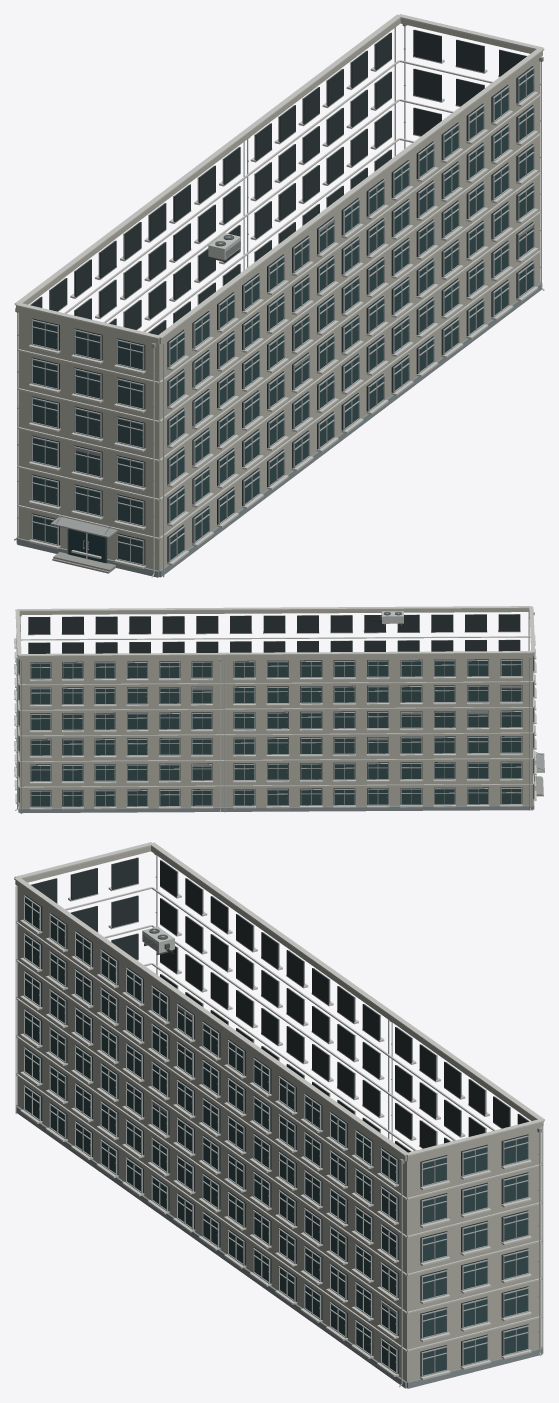
File: osm_way_225265324.glb
3 renders of one model, top to bottom at view 1: azimuth 30°, elevation 25°; view 2: azimuth 150°, elevation 25°; view 3: azimuth 270°, elevation 25°, orthographic. The views are drawn at different scales.
Visible parts, largest first — view 1: Windows and facade details | osm_way_225265324, Architecture | osm_way_225265324, Roof services | osm_way_225265324, EXTERIOR::osm_way_225265324::inferred entry doors canopy and, EXTERIOR::osm_way_225265324::rainwater and roof service deta; view 2: Windows and facade details | osm_way_225265324, Architecture | osm_way_225265324, Roof services | osm_way_225265324, EXTERIOR::osm_way_225265324::rainwater and roof service deta, EXTERIOR::osm_way_225265324::native pane seals and hardware, EXTERIOR::osm_way_225265324::inferred entry doors canopy and; view 3: Windows and facade details | osm_way_225265324, Architecture | osm_way_225265324, Roof services | osm_way_225265324, EXTERIOR::osm_way_225265324::rainwater and roof service deta.
Part boxes in pixels (x1,y1,x2,y2): Windows and facade details | osm_way_225265324: (28,27,538,577); Architecture | osm_way_225265324: (16,18,542,577); Roof services | osm_way_225265324: (14,14,544,339); EXTERIOR::osm_way_225265324::inferred entry doors canopy and: (50,512,117,573); EXTERIOR::osm_way_225265324::rainwater and roof service deta: (14,24,544,577); Windows and facade details | osm_way_225265324: (14,612,536,813); Architecture | osm_way_225265324: (18,608,534,813); Roof services | osm_way_225265324: (15,606,535,656); EXTERIOR::osm_way_225265324::rainwater and roof service deta: (15,611,534,812); EXTERIOR::osm_way_225265324::native pane seals and hardware: (81,669,521,799); EXTERIOR::osm_way_225265324::inferred entry doors canopy and: (534,752,544,796); Windows and facade details | osm_way_225265324: (15,857,543,1380); Architecture | osm_way_225265324: (15,846,543,1388); Roof services | osm_way_225265324: (14,842,544,1156); EXTERIOR::osm_way_225265324::rainwater and roof service deta: (142,854,541,1387).
Size of the model in its own units: 56.65 by 20.58 by 40.56.
